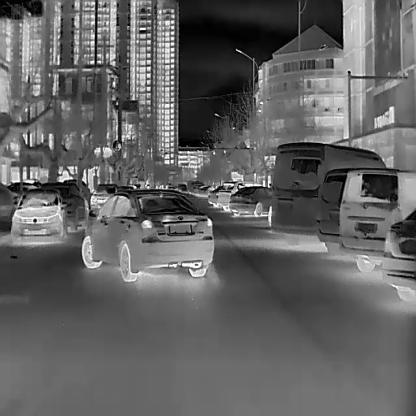car: (81, 188, 215, 282), (269, 140, 386, 247), (338, 168, 415, 272), (315, 163, 381, 255), (380, 206, 416, 302), (12, 189, 64, 242), (41, 180, 89, 233), (217, 179, 259, 212), (229, 184, 271, 217), (90, 182, 118, 214)
